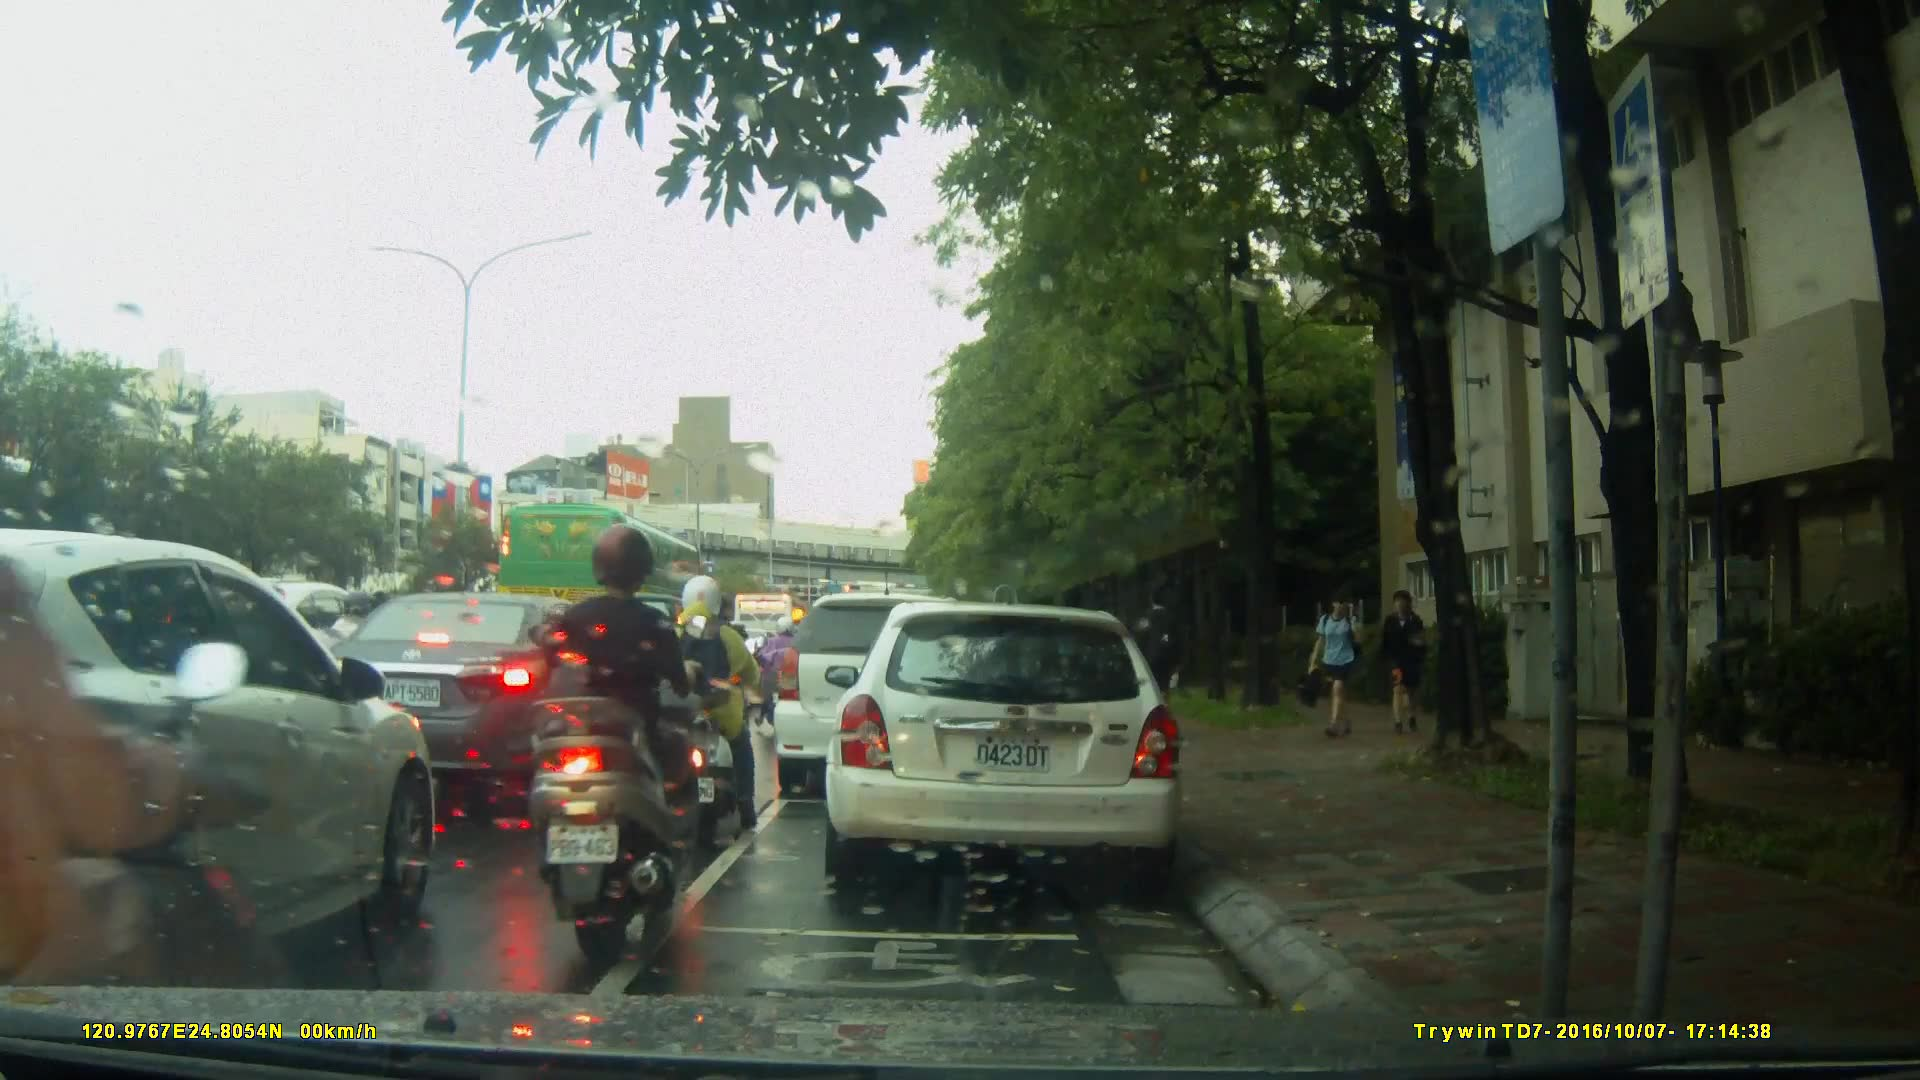pedestrian: (1298, 585, 1368, 744), (1379, 580, 1429, 740), (1136, 591, 1187, 745)
rider: (1, 398, 297, 1079), (518, 527, 690, 956), (659, 571, 763, 835), (756, 614, 812, 721)
vehicle: (1, 529, 445, 986), (831, 592, 1196, 897), (312, 590, 649, 807), (770, 592, 999, 801), (495, 502, 707, 639)
